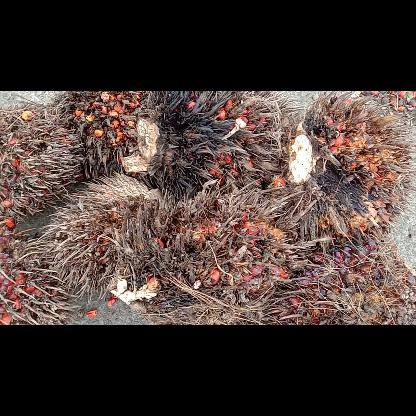Terlalu masak: (107, 180, 309, 324), (122, 90, 302, 202), (282, 91, 414, 242), (36, 171, 164, 301), (269, 240, 415, 324), (0, 102, 83, 229), (50, 90, 148, 176), (0, 228, 80, 324)
